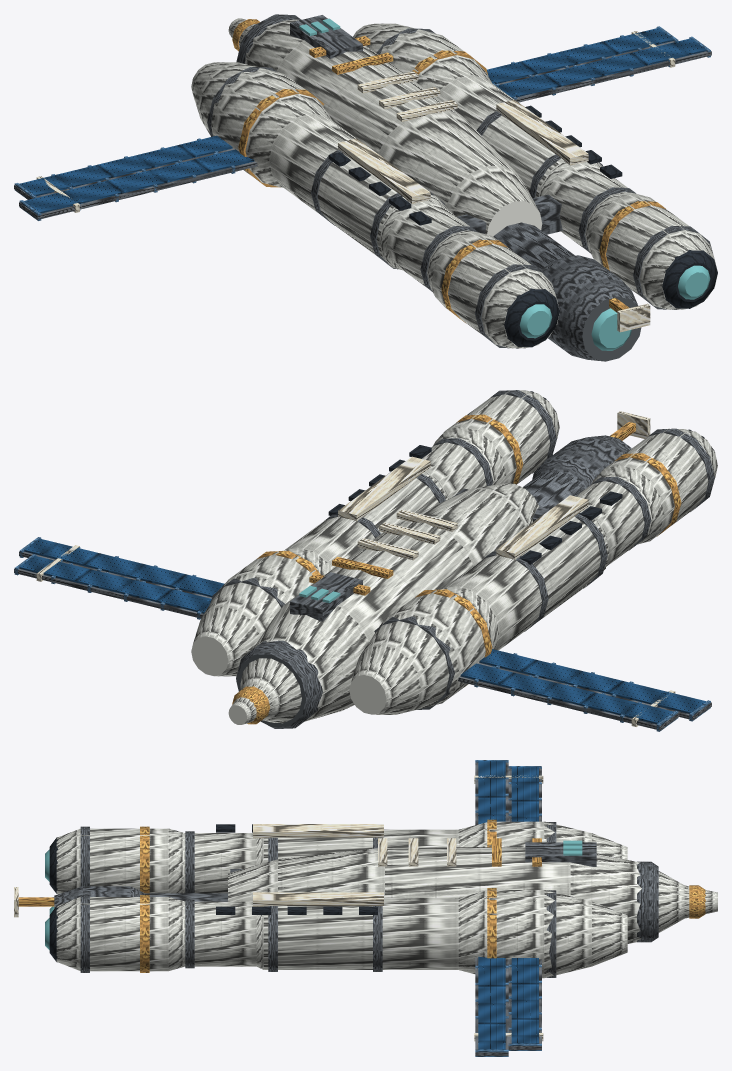
The model's file is graceFlyby.glb.
The picture shows the model from 3 angles, top to bottom: view 1: azimuth 30°, elevation 25°; view 2: azimuth 150°, elevation 25°; view 3: azimuth 270°, elevation 25°; orthographic projection. The views are drawn at different scales.
Visible parts, largest first — view 1: graceFlyby; view 2: graceFlyby; view 3: graceFlyby.
Part boxes in pixels (<box>): graceFlyby: <box>14,14,717,361</box>; graceFlyby: <box>14,390,717,731</box>; graceFlyby: <box>14,760,717,1056</box>.
Bounding box in the file's own units: 290 × 54.05 × 296.
Materials: 1 (1 with a texture image).
